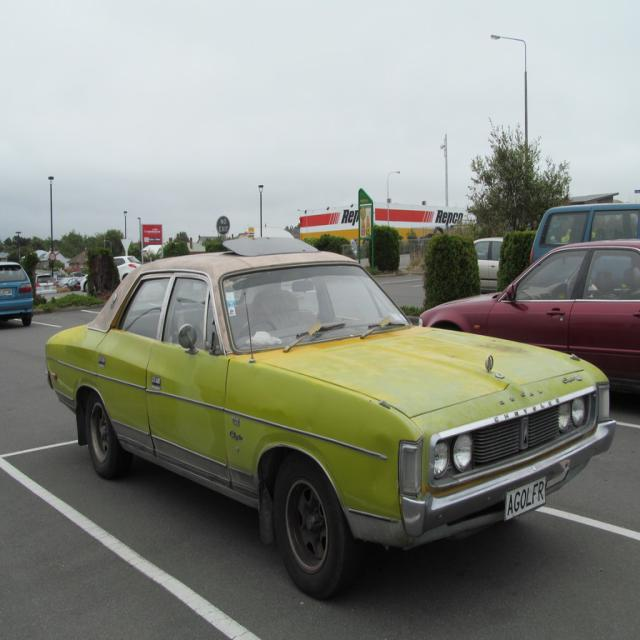car: (45, 236, 616, 599)
